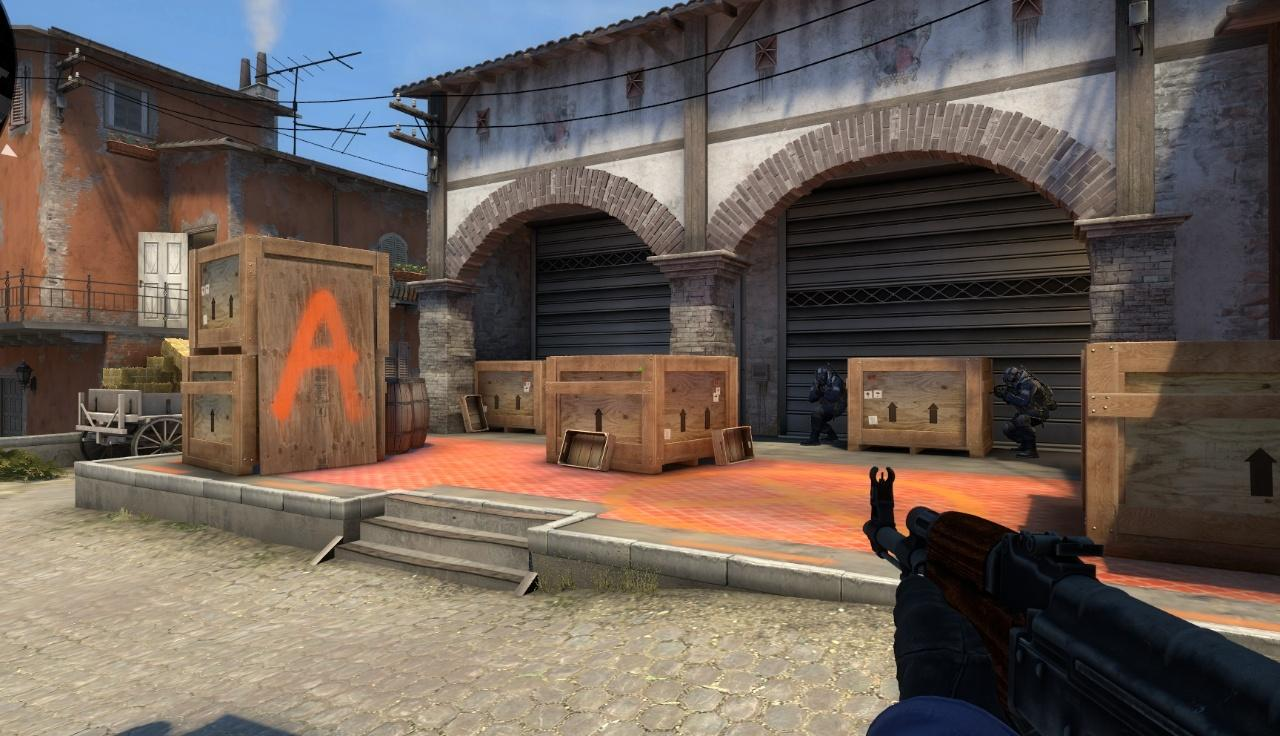ct: (999, 367, 1045, 458), (811, 365, 848, 445)
cthead: (1001, 366, 1024, 388), (815, 369, 830, 385)
rifle: (862, 469, 1280, 736)
